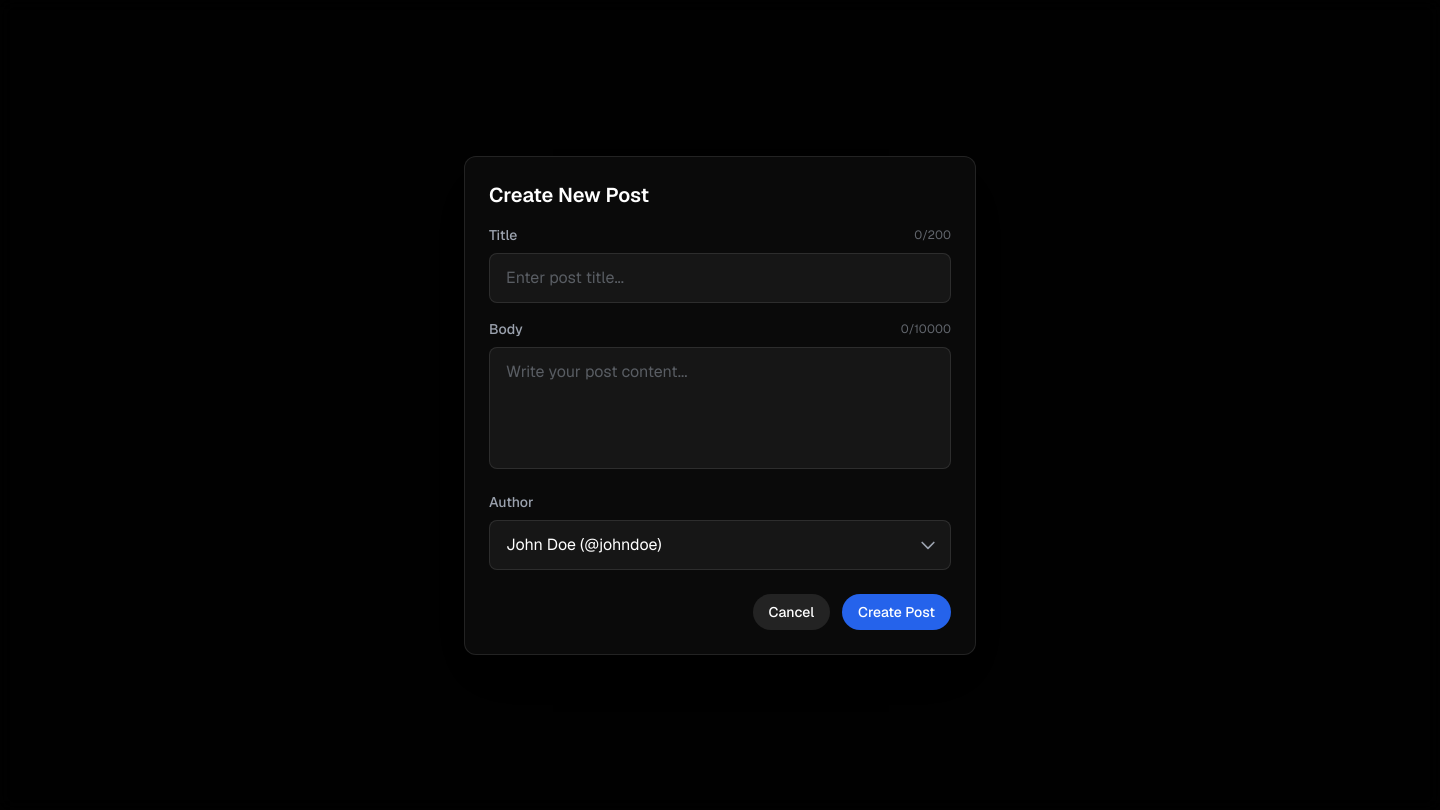
PostFormModal Validation › Create Mode › should clear error when valid input is entered
Note: Trigger error
Type "Hi" into the field labelled "Title".
click(720, 278); type("Hi")  # box [489,252,951,302]
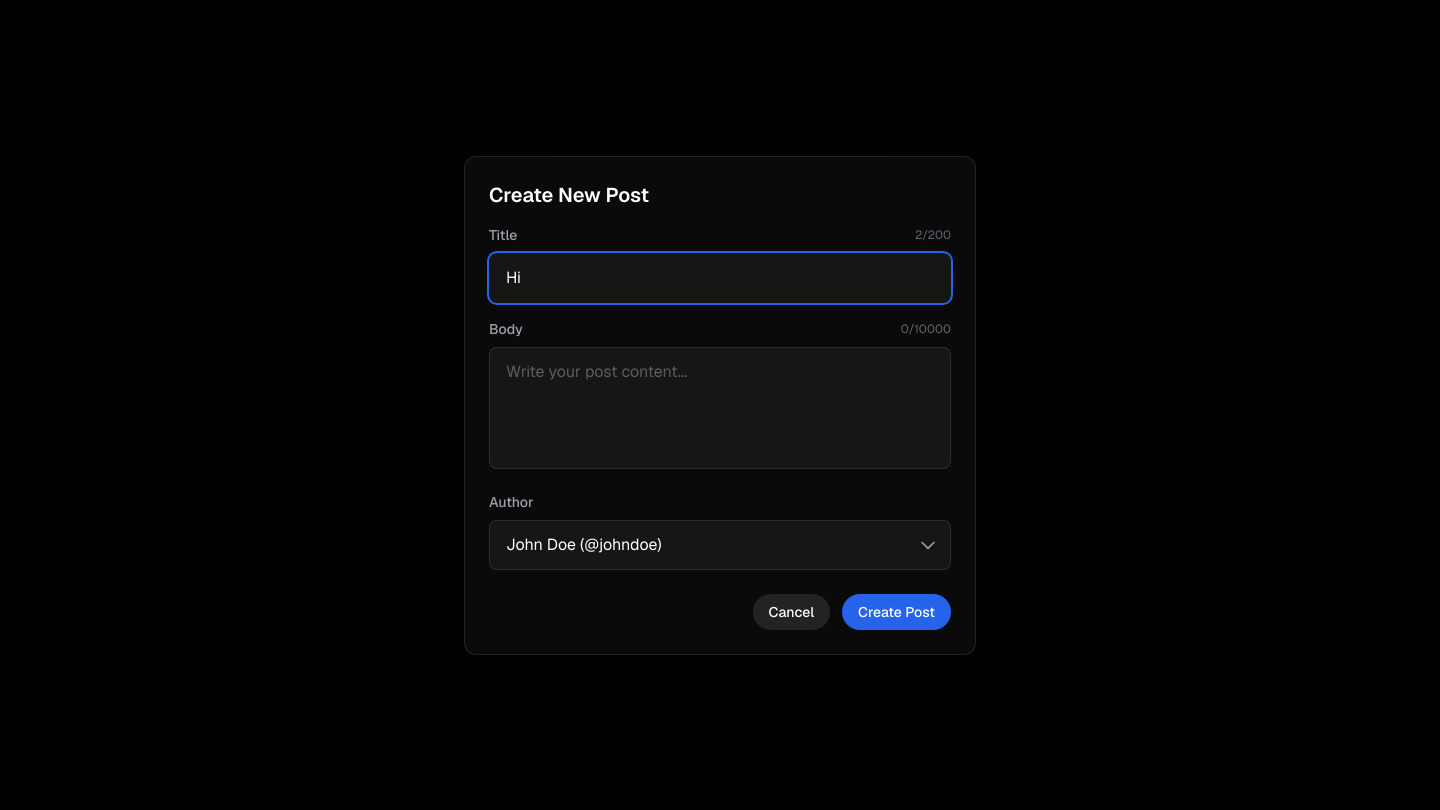
Press Tab
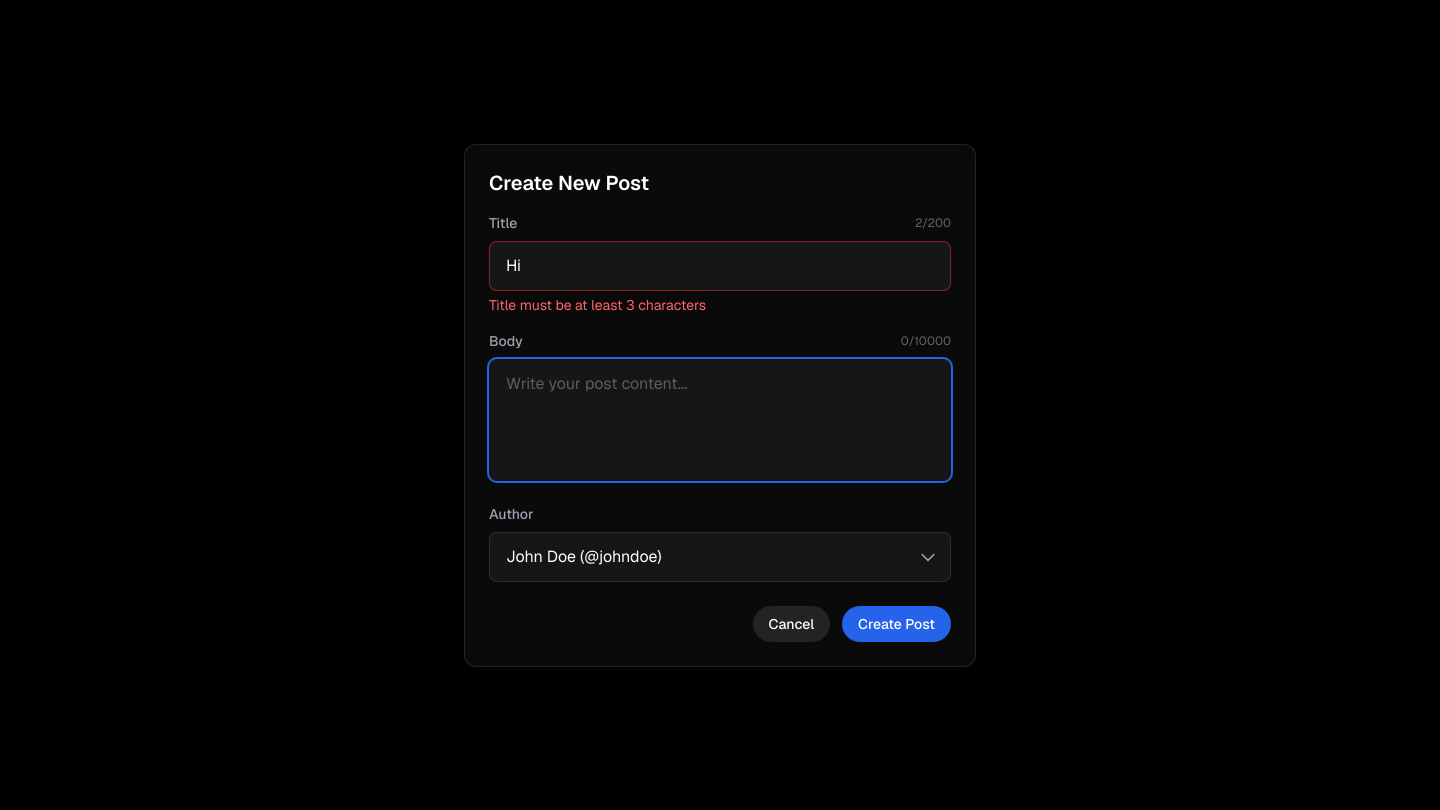
Check: the text "Title must be at least 3 characters" is shown, box [489,296,706,314]
Note: Fix the error
Click the field labelled "Title".
click(720, 266)  # box [489,240,951,290]
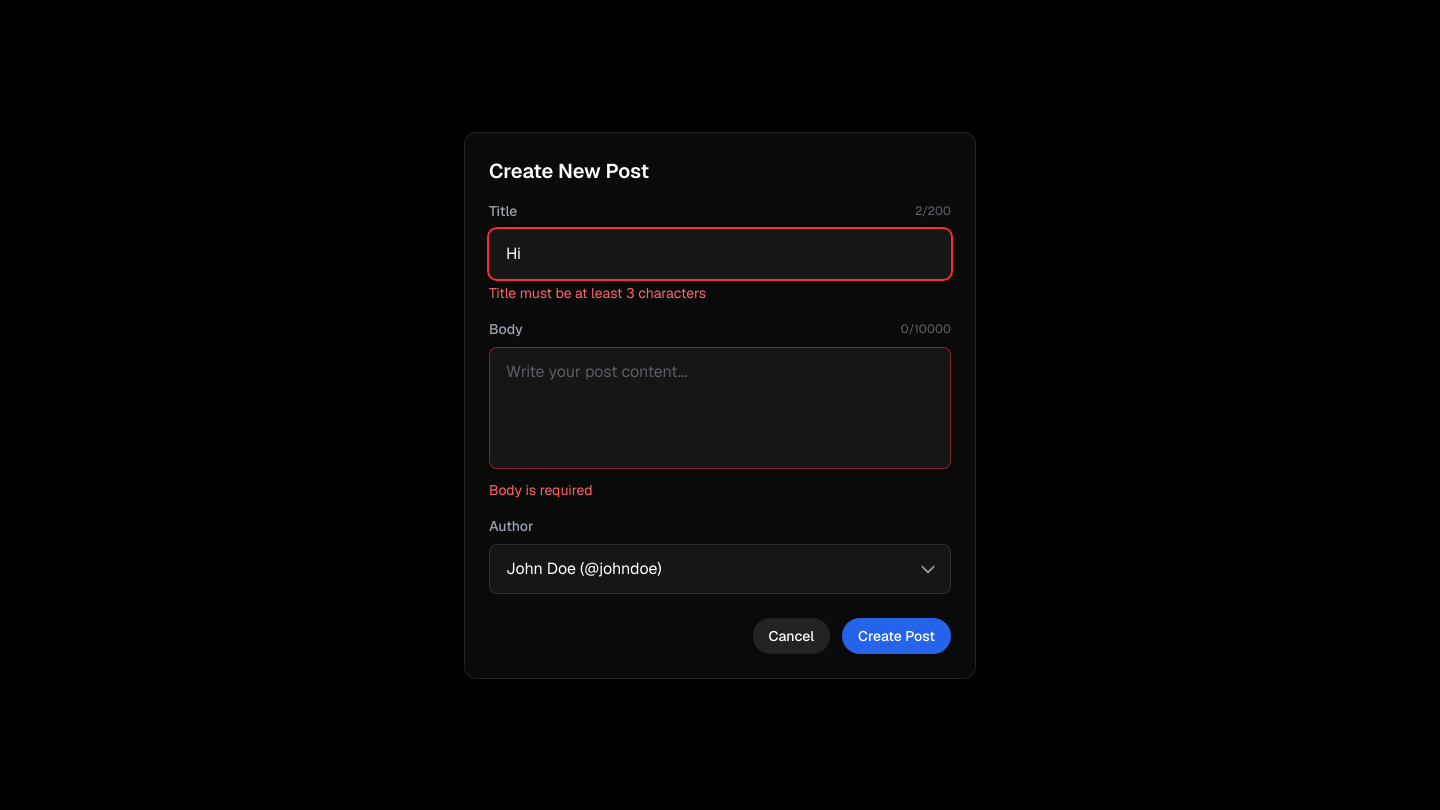
Type "llo World" into the field labelled "Title".
click(720, 254); type("llo World")  # box [489,228,951,278]
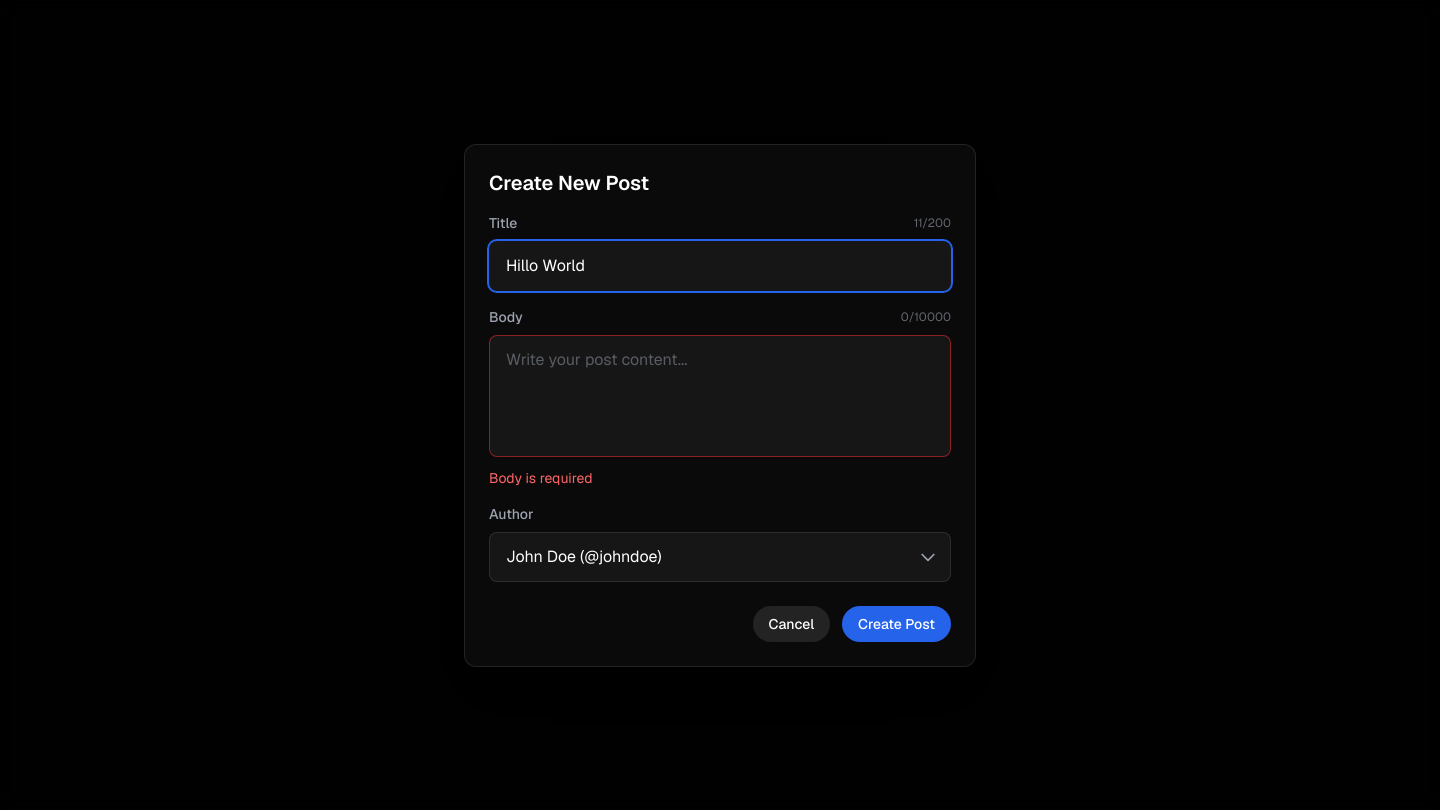
Check: the text "Title must be at least 3 characters" is gone
